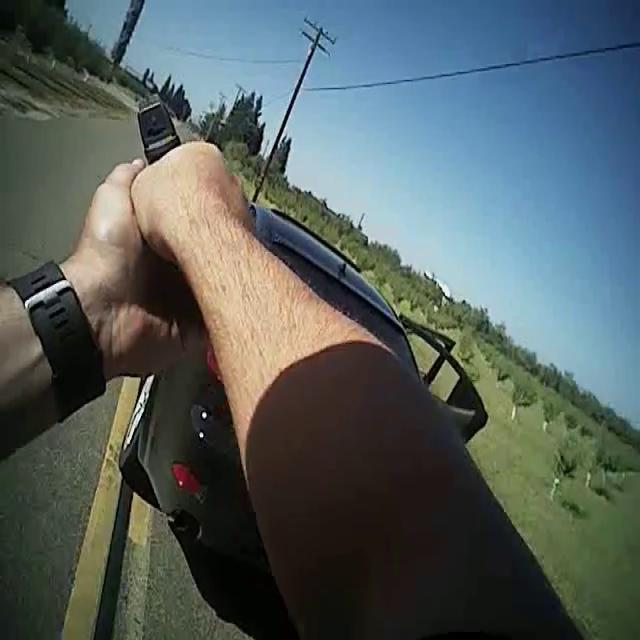gun: (119, 91, 217, 335)
